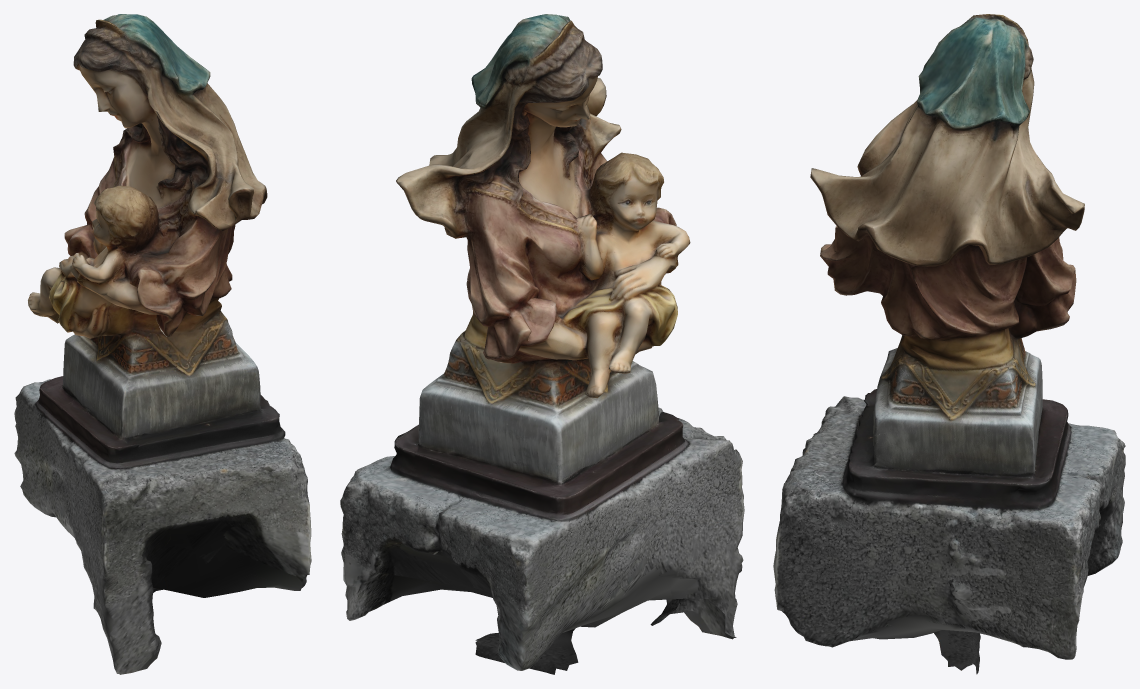
File: 3DModel_LowPoly.fbx
3 renders of one model, left to right at view 1: azimuth 30°, elevation 25°; view 2: azimuth 150°, elevation 25°; view 3: azimuth 270°, elevation 25°, orthographic. The views are drawn at different scales.
Parts seen in each view (by area): view 1: defaultobject; view 2: defaultobject; view 3: defaultobject.
Part boxes in pixels (bbox=[...]): defaultobject: bbox=[14, 14, 311, 674]; defaultobject: bbox=[340, 14, 744, 674]; defaultobject: bbox=[773, 14, 1125, 674].
Bounding box in the file's own units: 7.44 × 17.46 × 8.95.
1 material, 1 textured.
